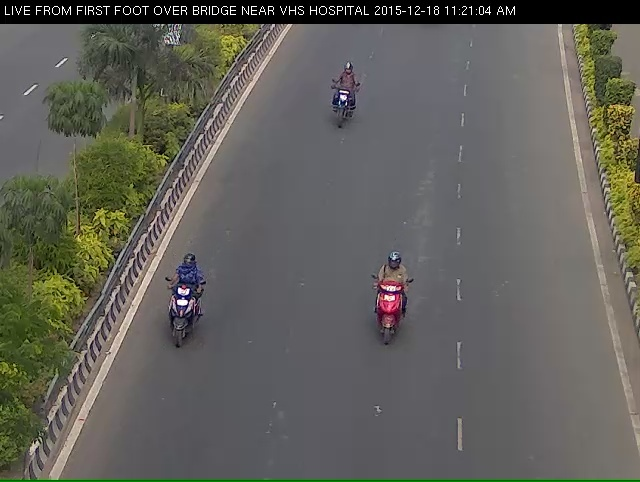Person: (362, 270, 409, 367), (155, 280, 192, 377), (320, 69, 356, 137)
